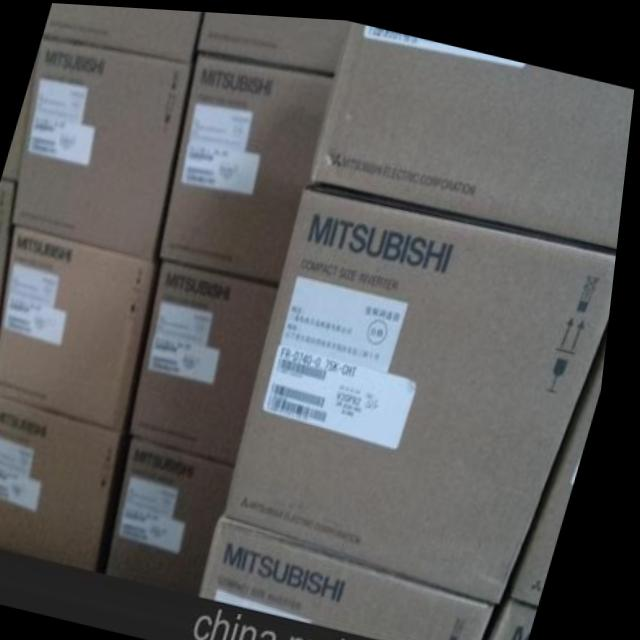box: (233, 180, 621, 596), (310, 18, 635, 243), (17, 35, 196, 258), (163, 54, 336, 282), (211, 511, 512, 640), (1, 226, 165, 431), (135, 256, 282, 463), (519, 320, 615, 599), (0, 387, 134, 568), (115, 437, 244, 593), (194, 9, 350, 72), (43, 2, 201, 60), (5, 34, 43, 180), (0, 175, 23, 368), (497, 593, 549, 640)
